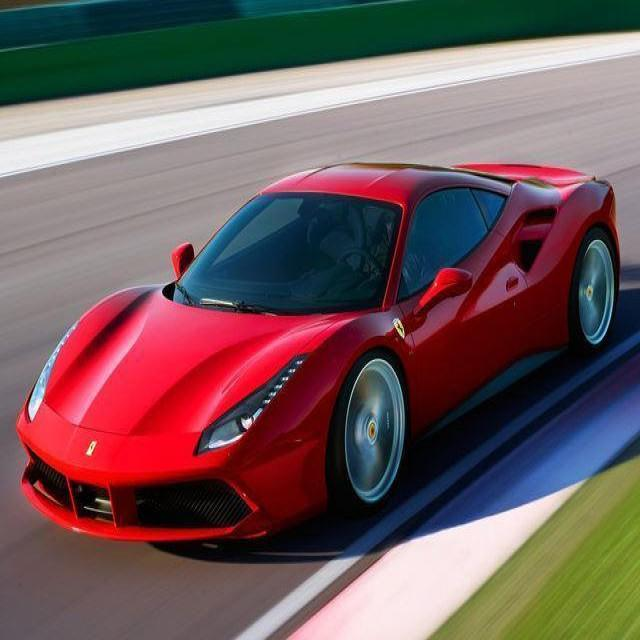car: (17, 159, 622, 555)
